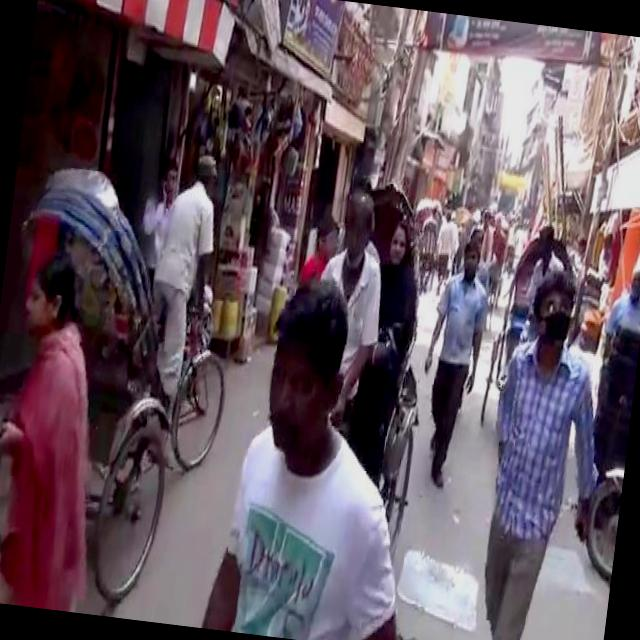motorcycle: (0, 153, 253, 620), (290, 172, 450, 572), (474, 215, 582, 449), (460, 200, 510, 324), (403, 190, 448, 292)
